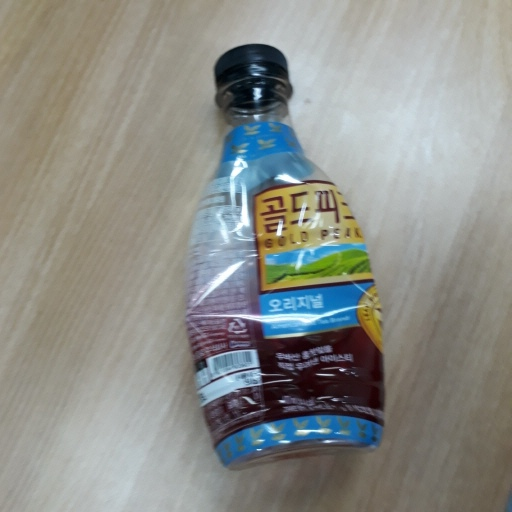Plastic_0: (181, 45, 386, 470)
